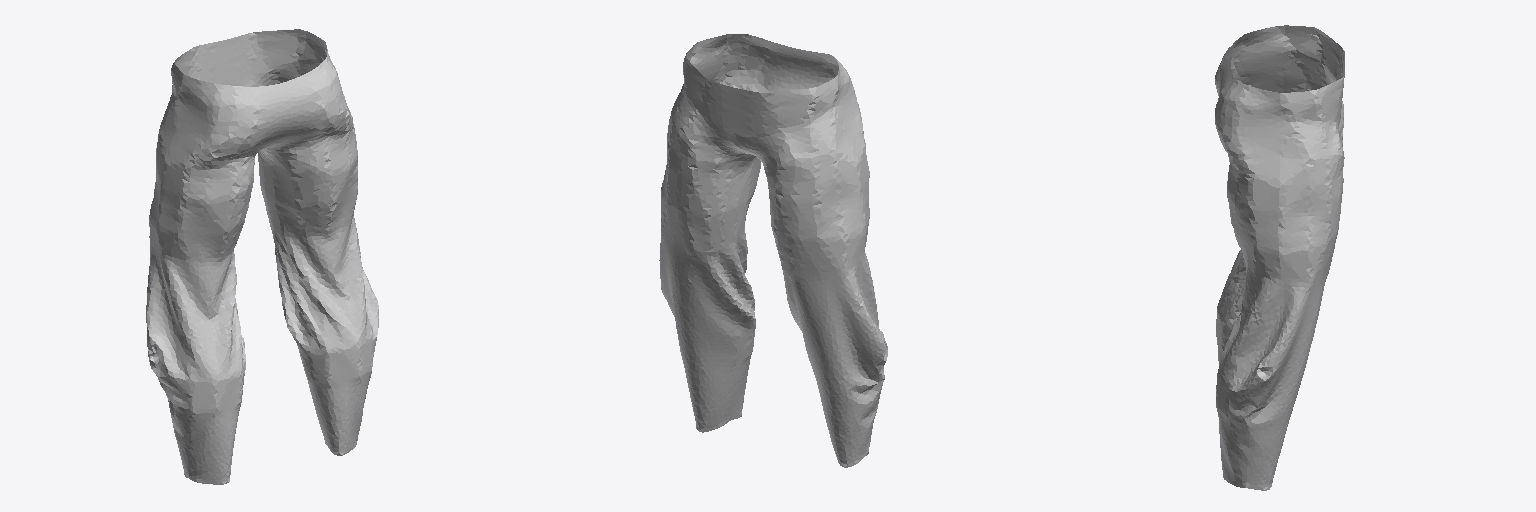
Rendered from PantalonesHigh.obj.
3 views of the same model, side by side, from view 1: azimuth 30°, elevation 25°; view 2: azimuth 150°, elevation 25°; view 3: azimuth 270°, elevation 25° (orthographic).
Bounding box in the file's own units: 747 × 1257 × 376.